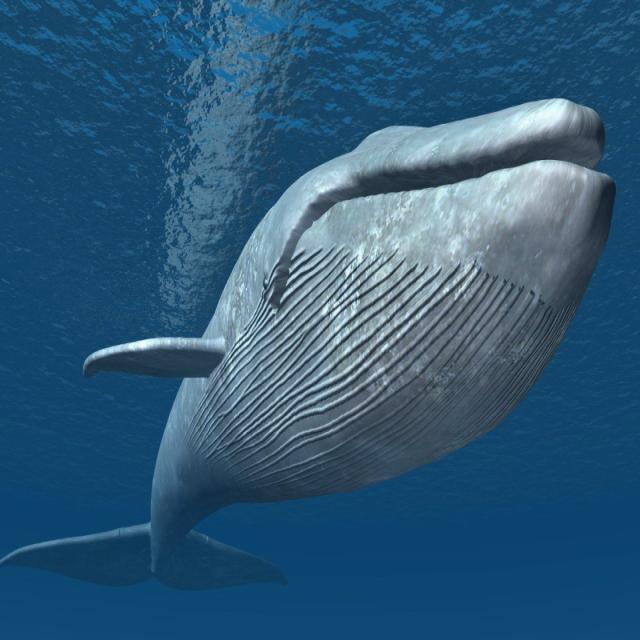whale: (0, 99, 615, 589)
